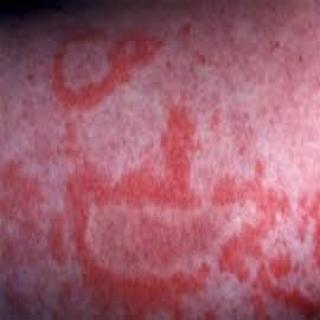urticaria: (78, 129, 221, 313), (226, 163, 317, 316), (47, 23, 164, 108), (1, 142, 67, 272)
